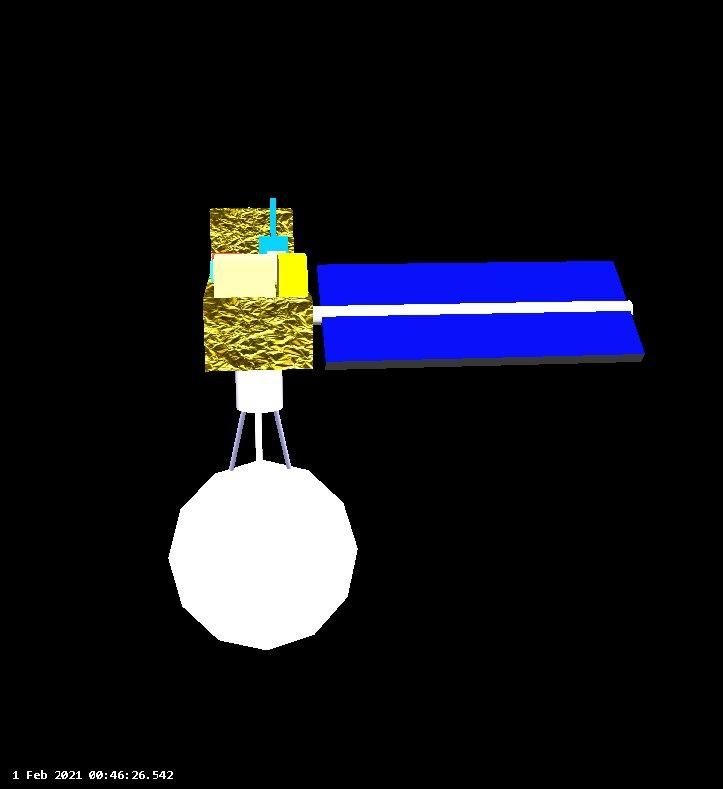antenna: (162, 451, 360, 653)
body: (198, 198, 318, 379)
solar: (315, 252, 649, 377)
